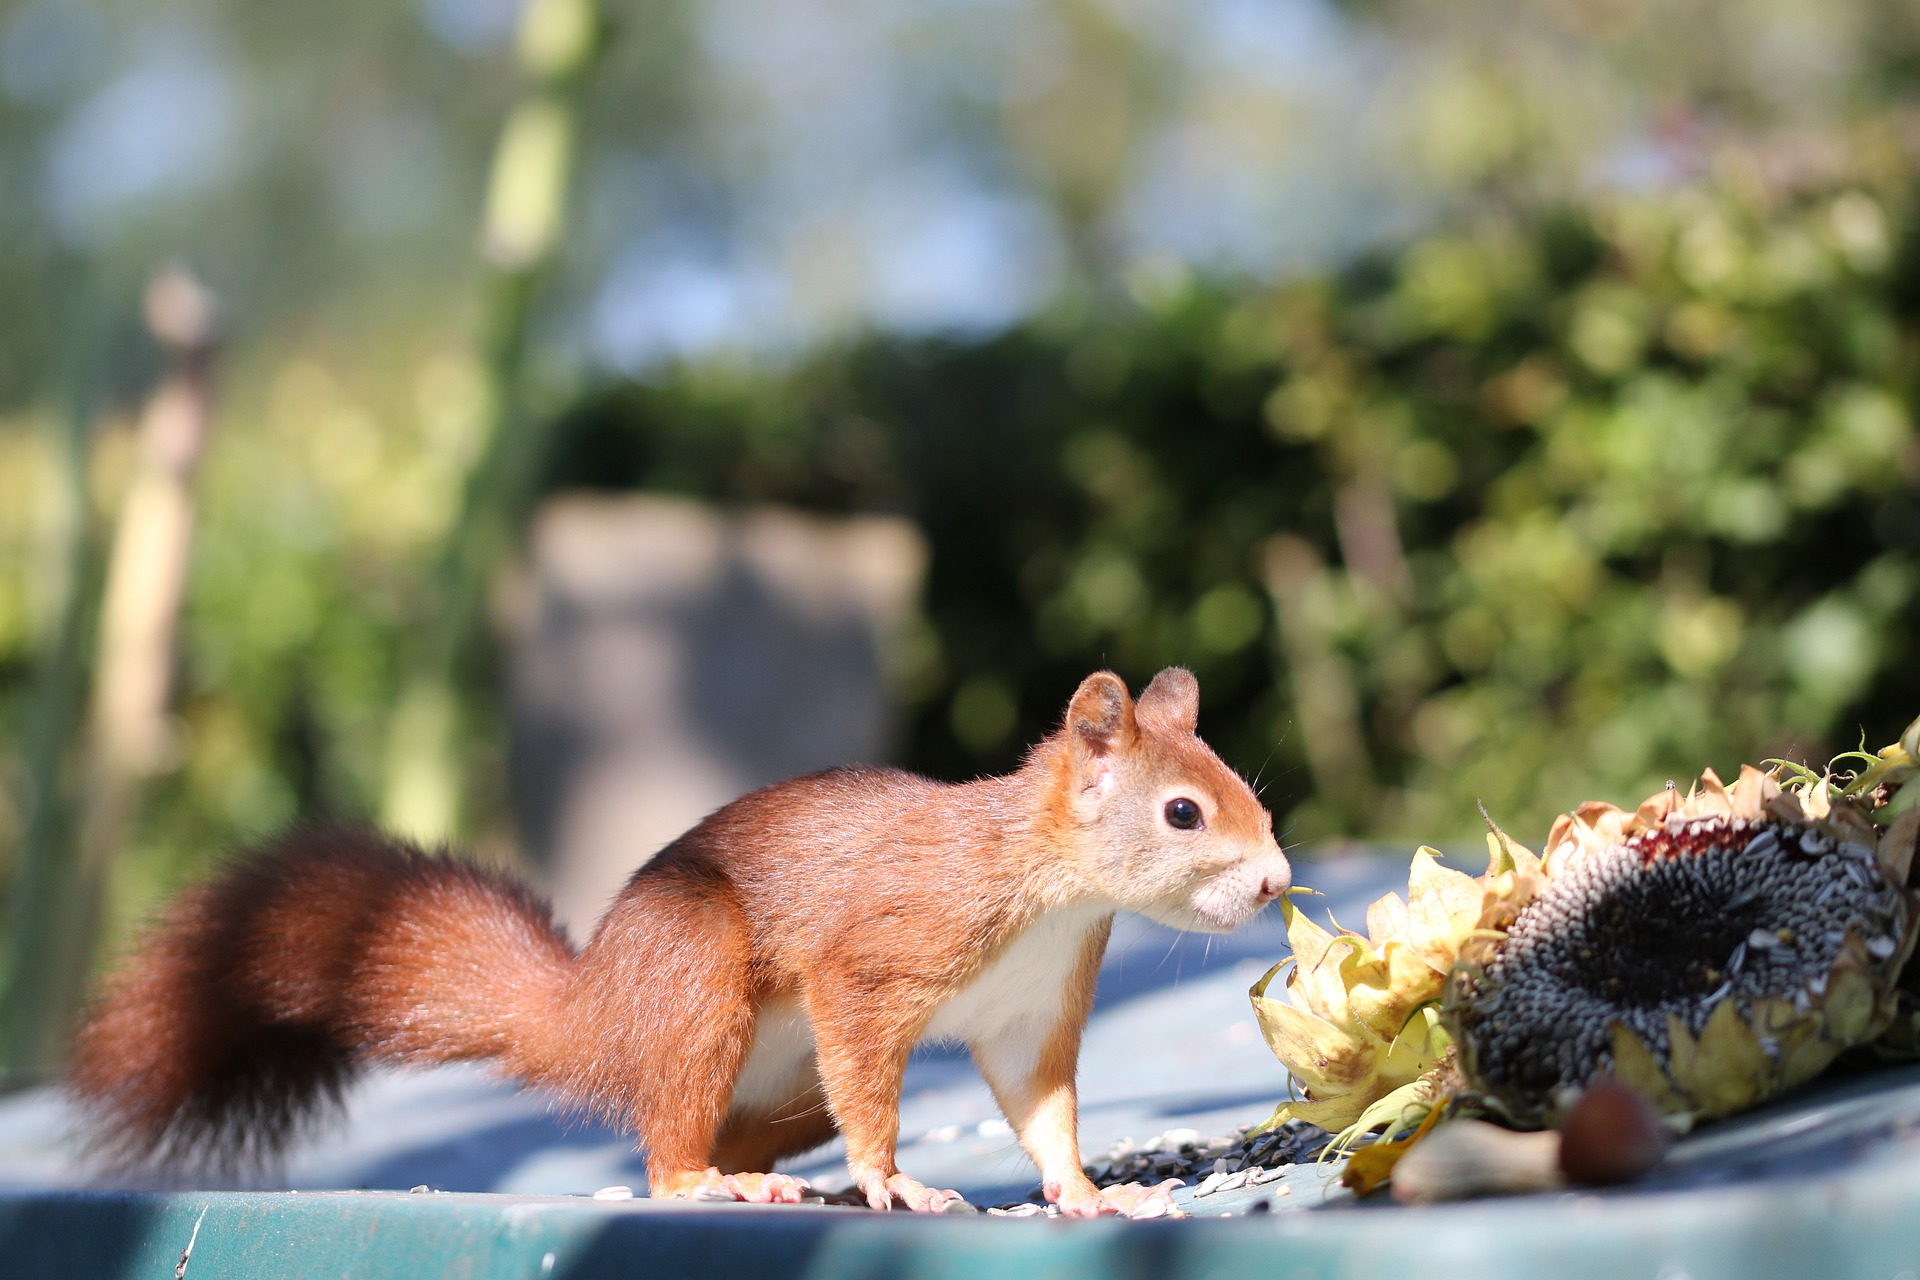squirrel: (56, 663, 1301, 1219)
